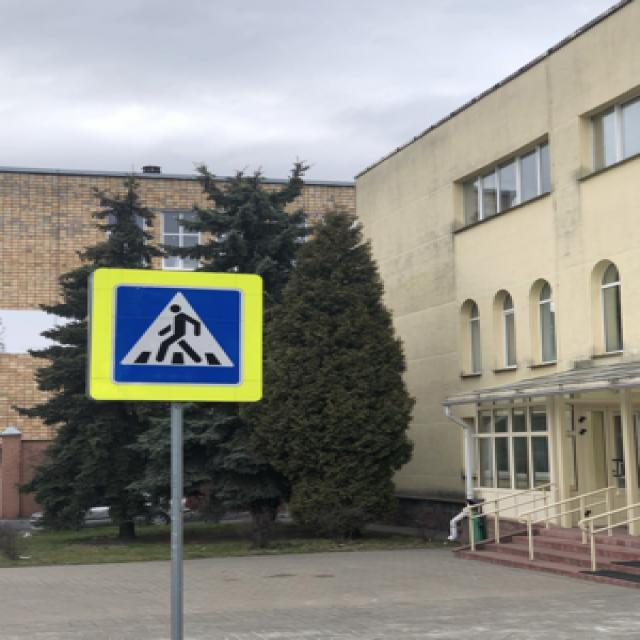crosswalk_sign: (109, 281, 248, 389)
